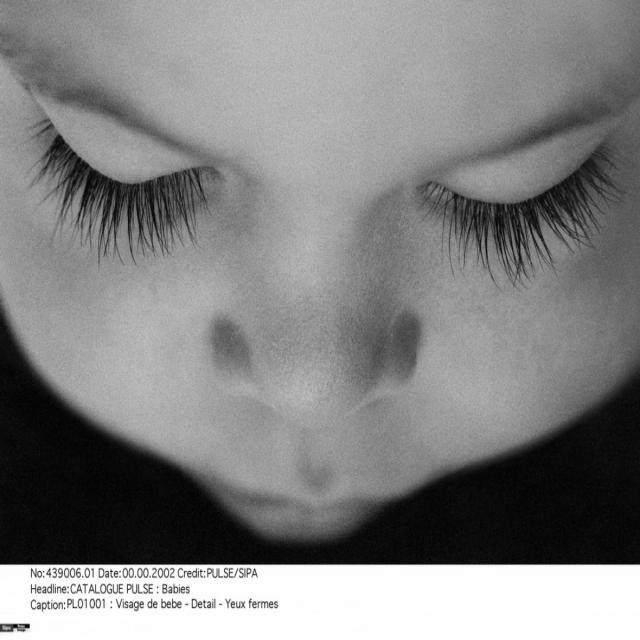real: (9, 58, 636, 334)
